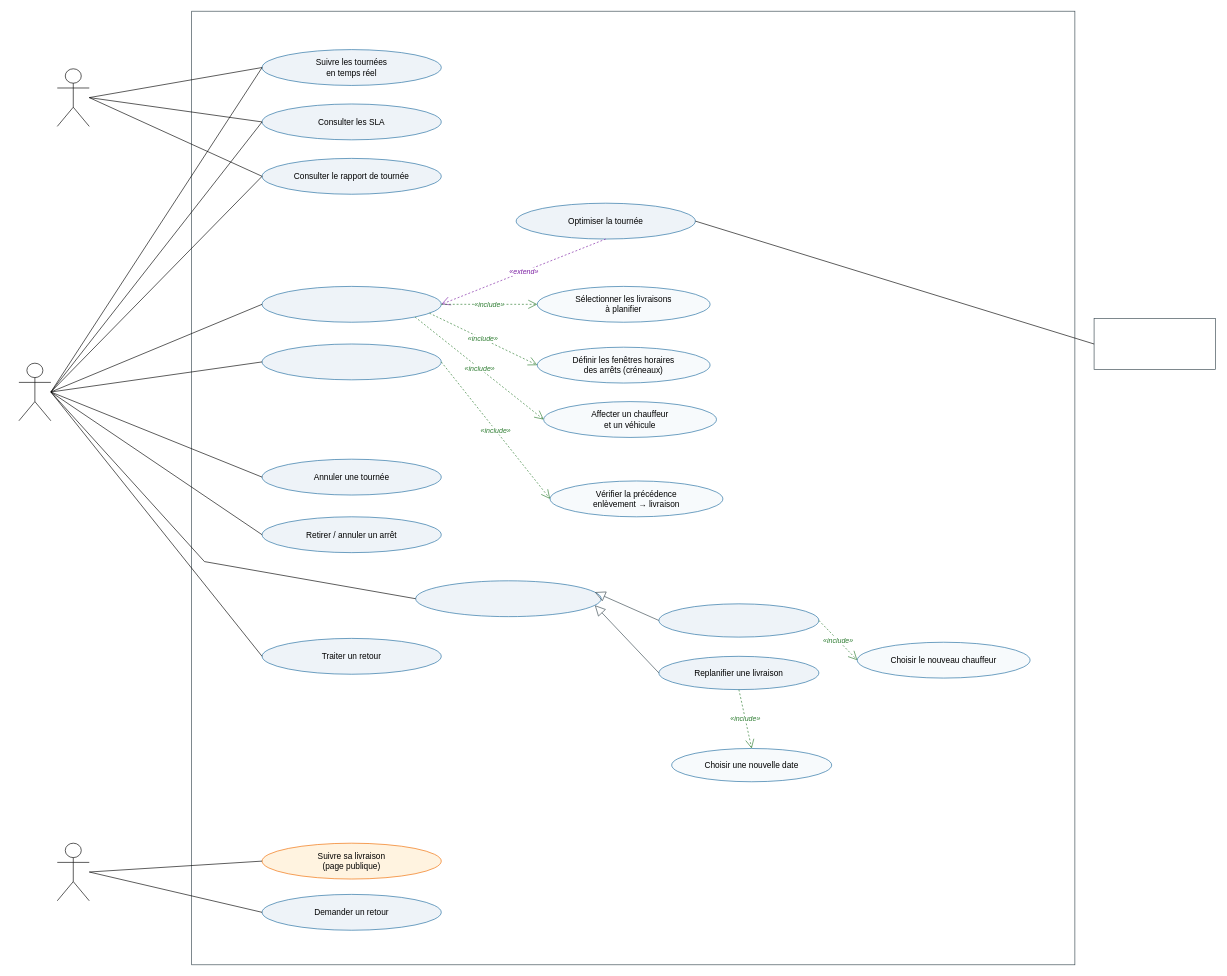
The diagram is 1227 pixels wide and 976 high, and some of its shapes have lost their labels. The centre of each missing label's shape, as x and y in pixels:
Construire une tournée: [351,304]
Destinataire: [73,872]
Dispatcheur: [34,392]
Responsable (supervision): [73,97]
Réassigner une tournée: [738,620]
Traiter une exception de livraison: [508,598]
Valider une tournée: [351,361]
« système externe » OSRM (moteur d'itinéraire): [1154,344]
